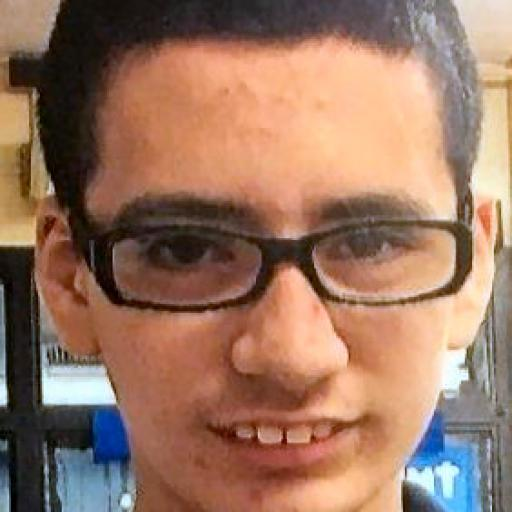Autism: (47, 3, 504, 512)
